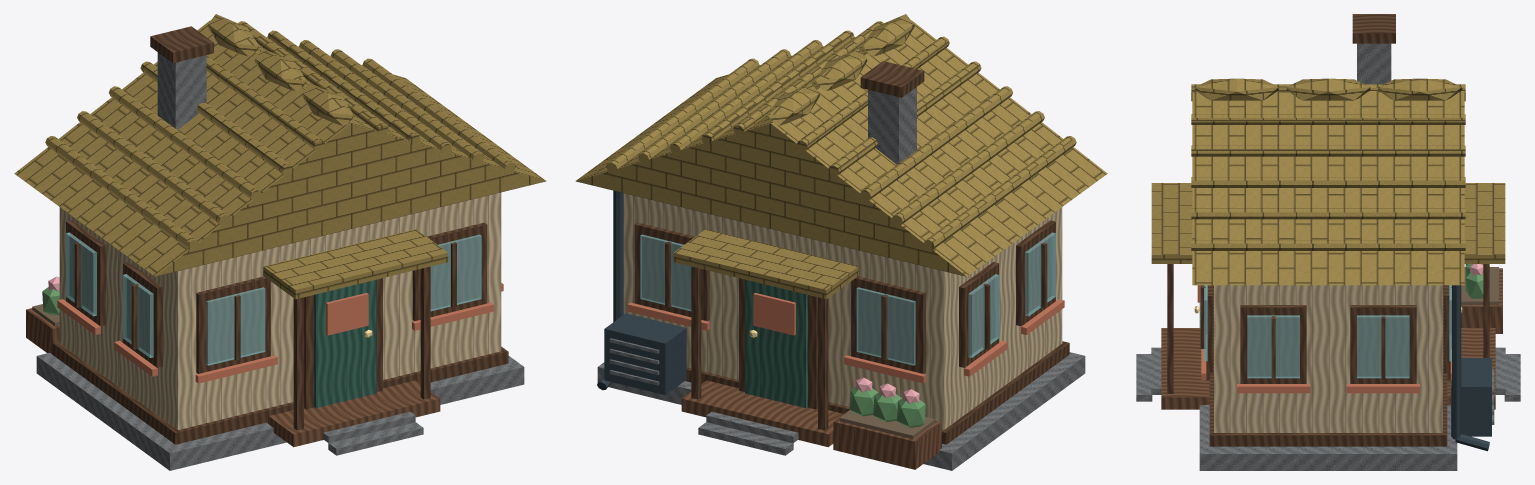
The model's file is house_lv1.glb.
The picture shows the model from 3 angles, left to right: view 1: azimuth 30°, elevation 25°; view 2: azimuth 150°, elevation 25°; view 3: azimuth 270°, elevation 25°; orthographic projection. The views are drawn at different scales.
Visible parts, largest first — view 1: gable_roof, walls, foundation, front_porch_canopy, front_door, front_window_frame, floor_trim, front_deck, front_window_frame.001, front_window_glass, chimney, front_window_glass.001 (+29 smaller); view 2: gable_roof, walls, back_porch_canopy, back_door, back_window_frame, foundation, back_ac_unit, back_window_frame.001, back_deck, back_window_glass, back_garden_bed, chimney (+35 smaller); view 3: gable_roof, walls, foundation, right_window_frame, right_window_frame.001, floor_trim, back_porch_canopy, front_porch_canopy, thatch_course.006, thatch_course.008, right_window_glass, right_window_glass.001 (+25 smaller).
Part boxes in pixels (bbox=[...]): gable_roof: bbox=[14, 20, 546, 276]; walls: bbox=[59, 192, 501, 429]; foundation: bbox=[36, 352, 524, 470]; front_porch_canopy: bbox=[263, 229, 448, 299]; front_door: bbox=[314, 279, 376, 407]; front_window_frame: bbox=[196, 276, 270, 373]; floor_trim: bbox=[52, 341, 508, 444]; front_deck: bbox=[267, 380, 440, 447]; front_window_frame.001: bbox=[412, 222, 487, 321]; front_window_glass: bbox=[206, 287, 265, 365]; chimney: bbox=[157, 52, 206, 129]; front_window_glass.001: bbox=[430, 234, 481, 311]; gable_roof: bbox=[575, 20, 1107, 276]; walls: bbox=[623, 193, 1062, 429]; back_porch_canopy: bbox=[673, 229, 858, 299]; back_door: bbox=[745, 279, 807, 407]; back_window_frame: bbox=[851, 276, 925, 373]; foundation: bbox=[597, 352, 1085, 470]; back_ac_unit: bbox=[604, 313, 686, 395]; back_window_frame.001: bbox=[634, 222, 709, 321]; back_deck: bbox=[681, 380, 843, 447]; back_window_glass: bbox=[856, 287, 915, 365]; back_garden_bed: bbox=[833, 410, 941, 469]; chimney: bbox=[868, 87, 916, 164]; gable_roof: bbox=[1192, 91, 1464, 285]; walls: bbox=[1214, 285, 1442, 432]; foundation: bbox=[1199, 302, 1457, 470]; right_window_frame: bbox=[1240, 305, 1306, 383]; right_window_frame.001: bbox=[1350, 305, 1416, 383]; floor_trim: bbox=[1209, 285, 1447, 446]; back_porch_canopy: bbox=[1464, 183, 1505, 263]; front_porch_canopy: bbox=[1151, 183, 1192, 263]; thatch_course.006: bbox=[1191, 145, 1465, 156]; thatch_course.008: bbox=[1191, 208, 1465, 219]; right_window_glass: bbox=[1247, 315, 1299, 378]; right_window_glass.001: bbox=[1357, 315, 1409, 378].
Bounding box in the file's own units: 3.3 × 2.74 × 2.9.
Materials: 13 (7 with a texture image).
